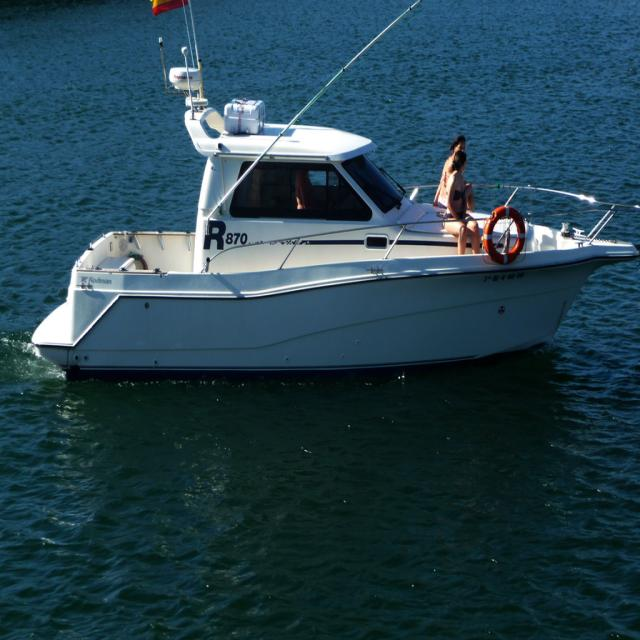Boat: (31, 0, 640, 386)
